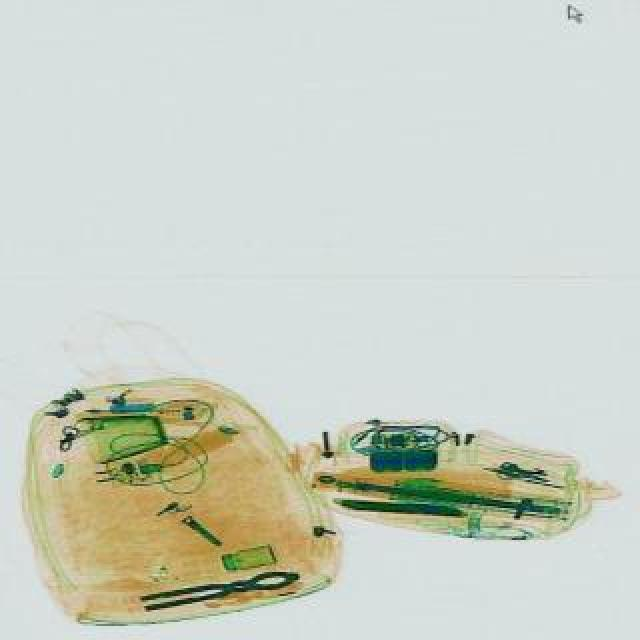wrench: (136, 566, 296, 614)
